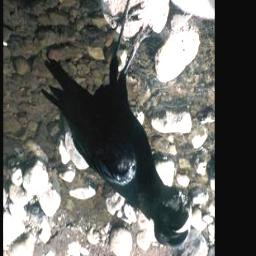Crow: (42, 0, 193, 251)
